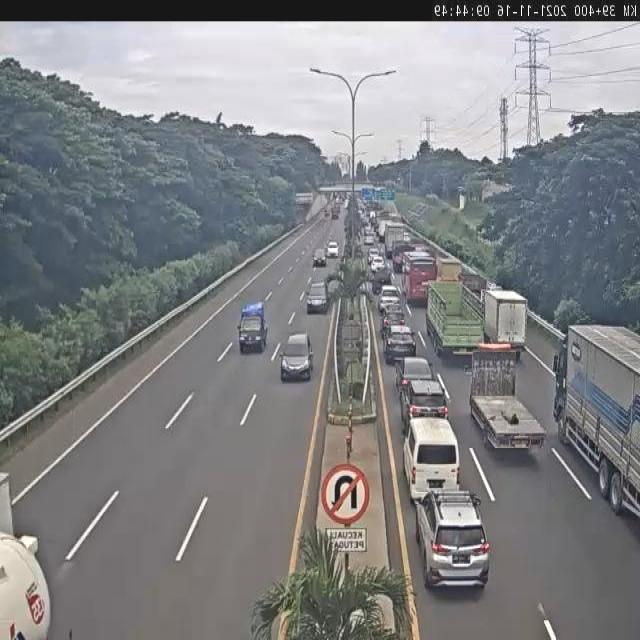Bus: (403, 250, 438, 304)
Car: (413, 487, 490, 589), (399, 380, 448, 431), (280, 329, 313, 384), (383, 324, 417, 364), (396, 355, 434, 390), (306, 280, 328, 314), (312, 249, 327, 267), (370, 256, 385, 274), (326, 242, 339, 258), (368, 247, 380, 264), (402, 231, 411, 244)
Truck: (552, 322, 640, 519), (467, 340, 547, 455), (426, 280, 484, 356), (482, 291, 528, 357), (238, 300, 269, 352)
Van: (404, 417, 461, 503)
